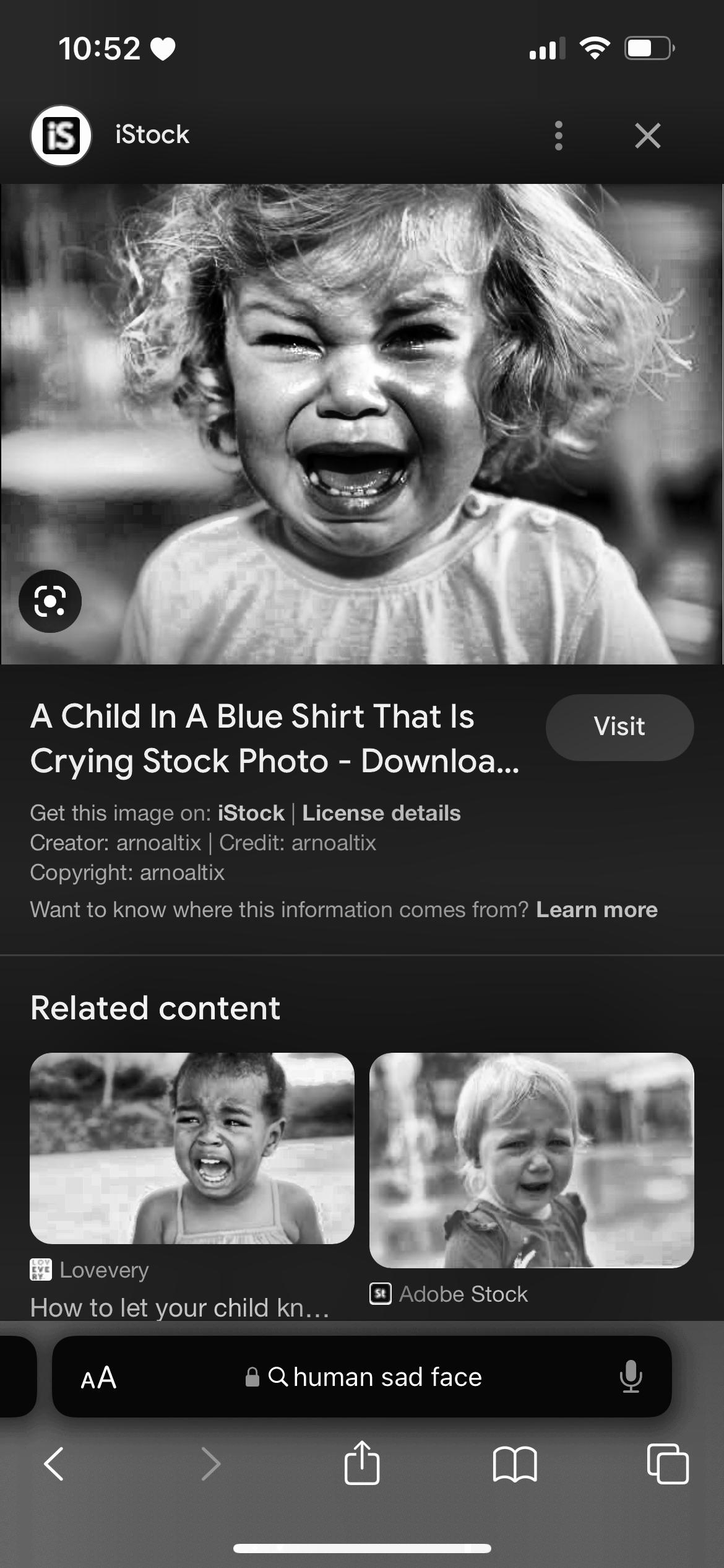sad: (229, 245, 488, 564)
